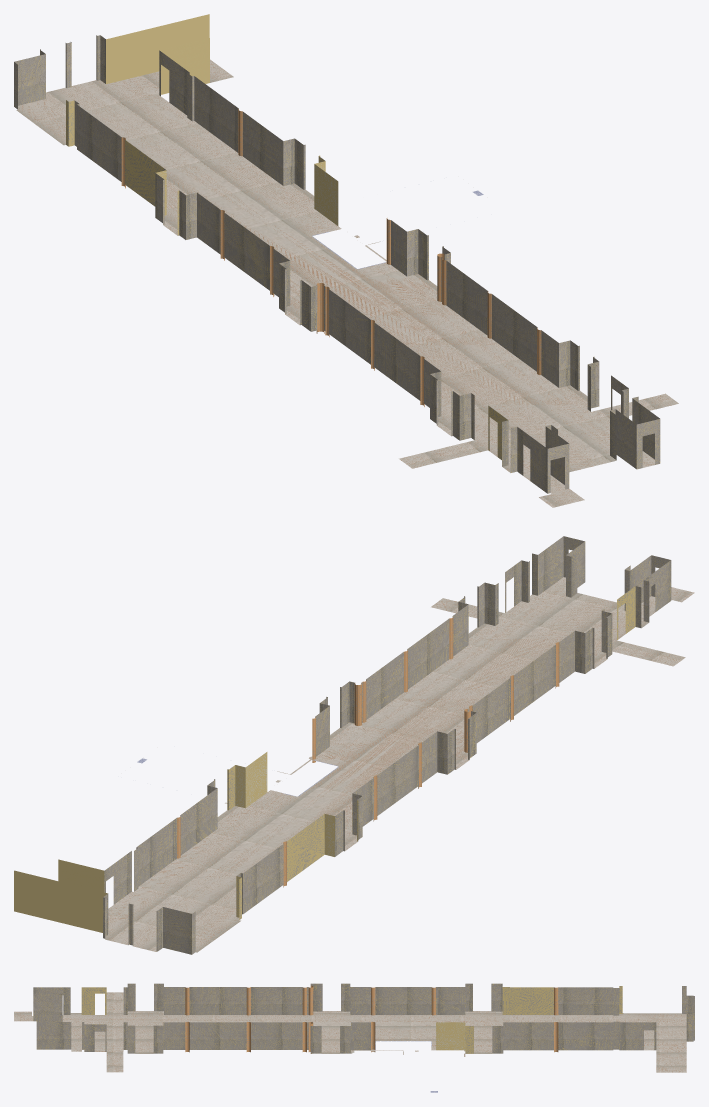
Rendered from COM048.obj.
3 renders of one model, top to bottom at view 1: azimuth 30°, elevation 25°; view 2: azimuth 150°, elevation 25°; view 3: azimuth 270°, elevation 25°, orthographic. The views are drawn at different scales.
Parts seen in each view (by area): view 1: Mesh1 Group1 Model; view 2: Mesh1 Group1 Model; view 3: Mesh1 Group1 Model.
Boxes of the visible parts, x1,y1,x2,y2 form: Mesh1 Group1 Model: (14, 14, 678, 507); Mesh1 Group1 Model: (14, 536, 694, 954); Mesh1 Group1 Model: (14, 983, 694, 1072).
Size of the model in its own units: 23.34 by 3.25 by 66.78.
Materials: 8 (3 with a texture image).
